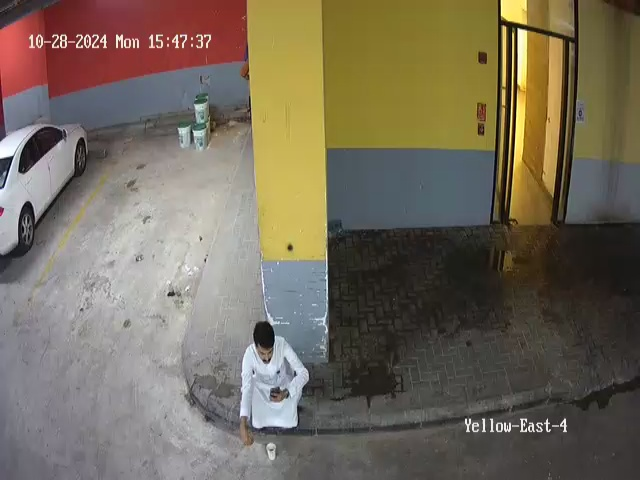male: (238, 321, 310, 447)
